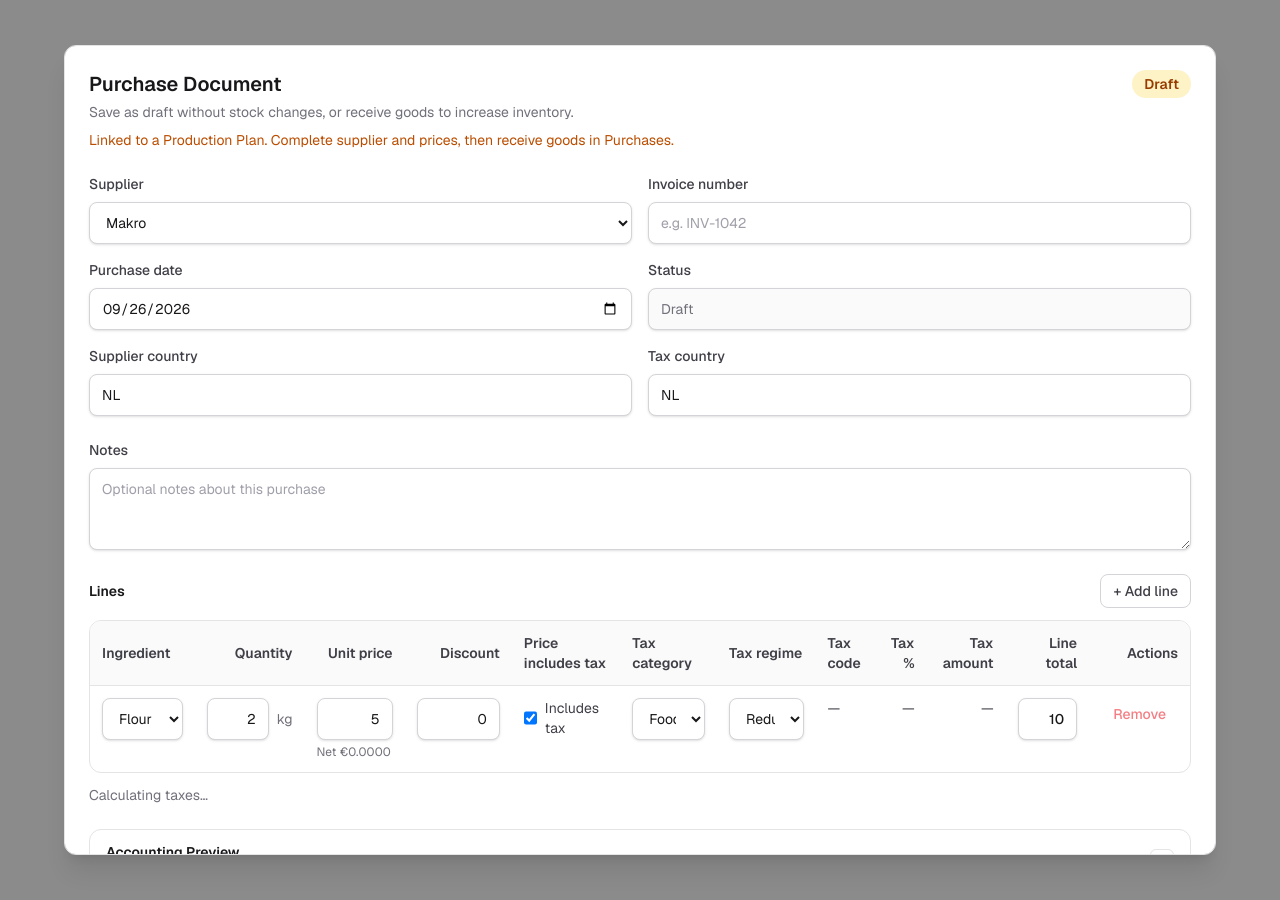
Test case: PurchaseDocumentModal last price › replaces a loaded line's price when its ingredient changes
Expected: the field named "Unit price" holds "5", [317,698,393,740]
Select "Milk (L)" in the 2nd dropdown at (143,719), box [102,698,183,740]
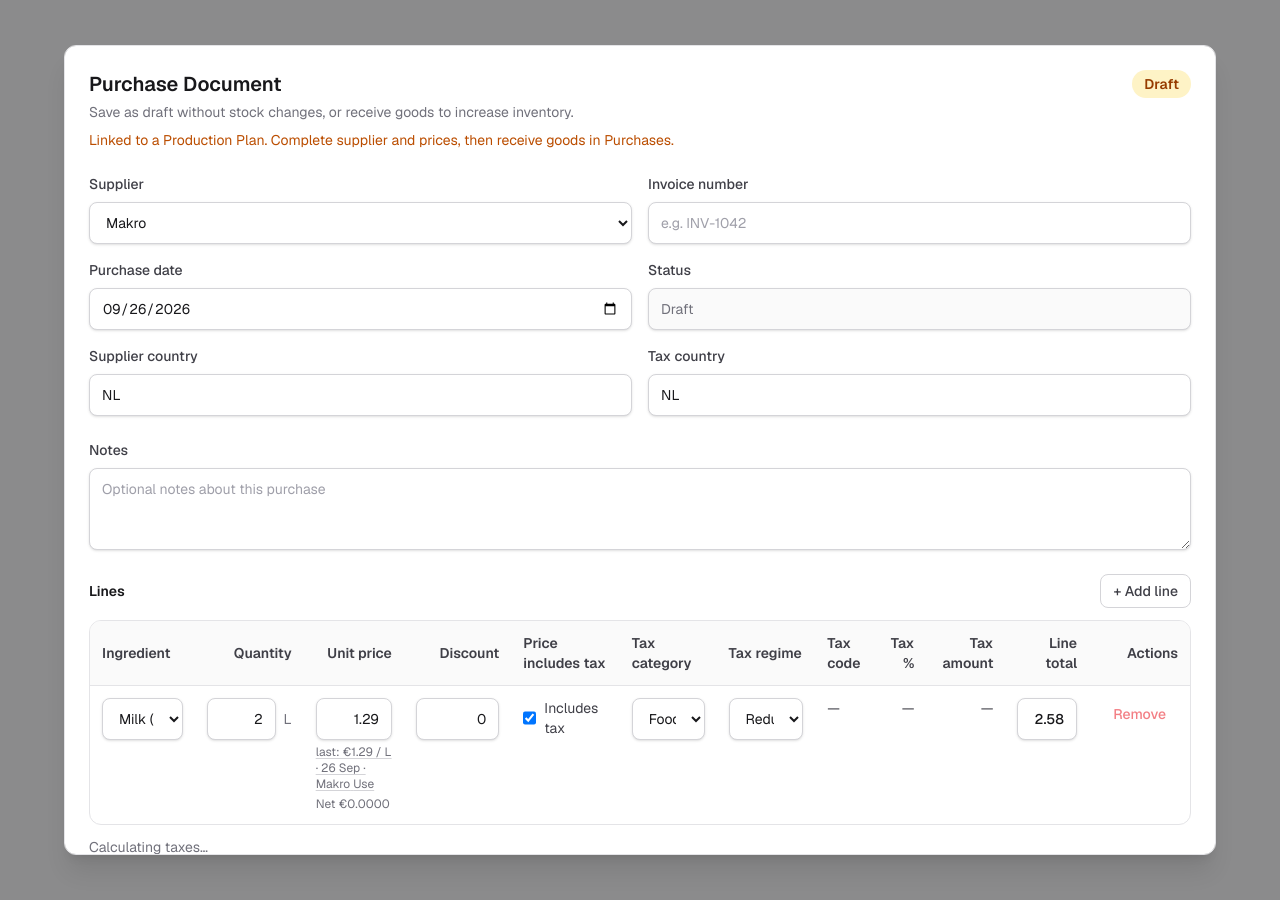
Expected: the field named "Unit price" holds "1.29", [316,698,392,740]
